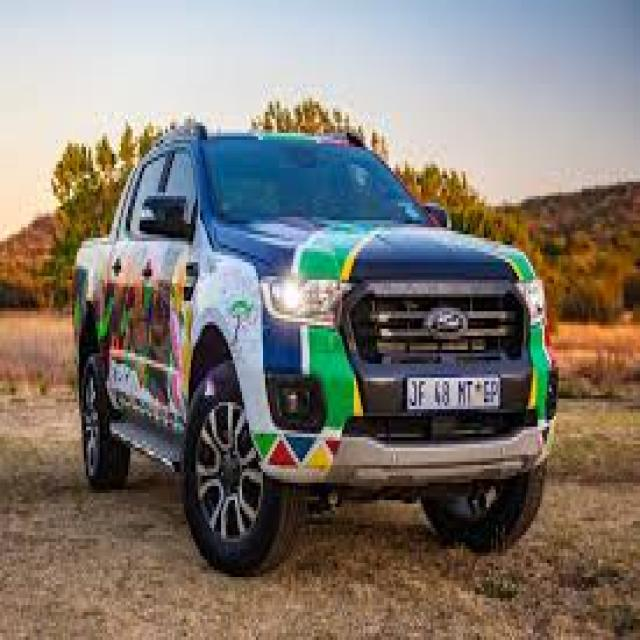Pickup Trucks: (77, 129, 558, 577)
